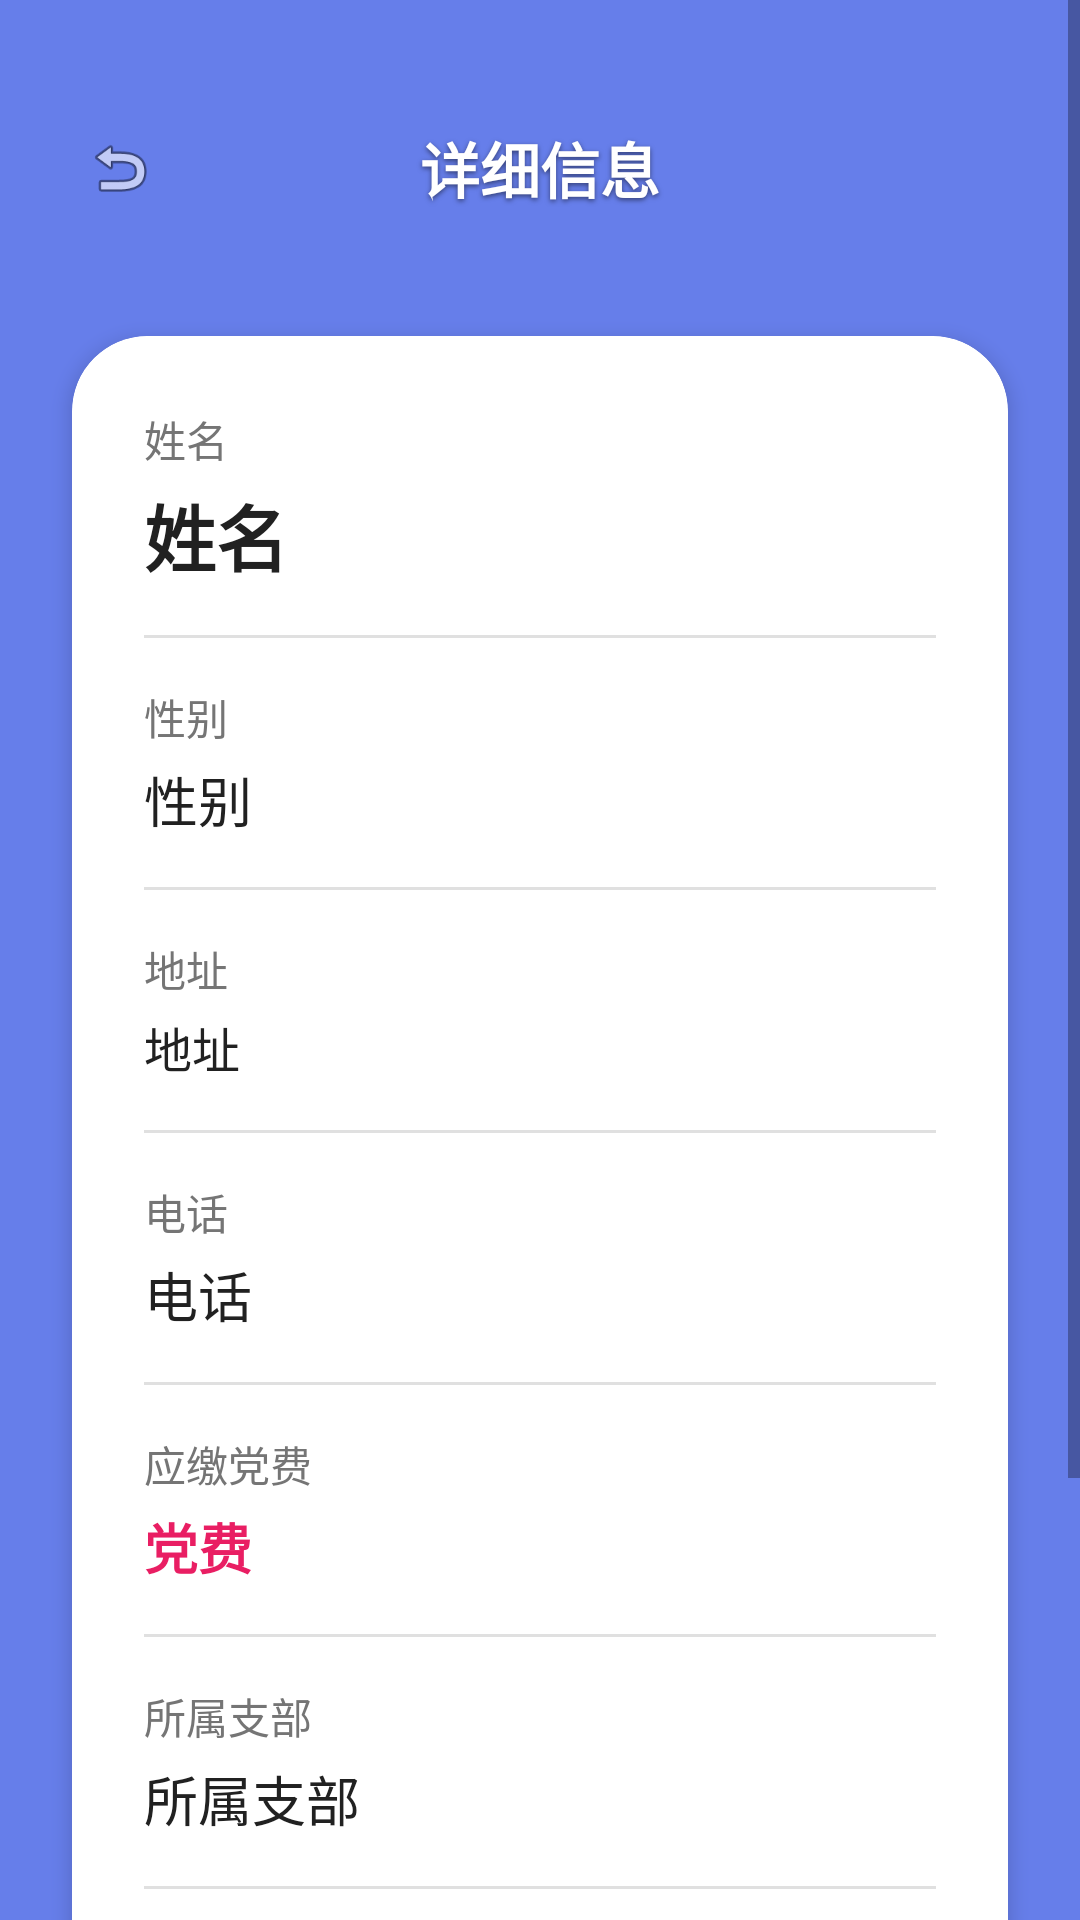

Screen size 1080px×1920px. Icon name, then its box in pixels as (x1, y1, x2, y2):
revert: (95, 145, 147, 192)
